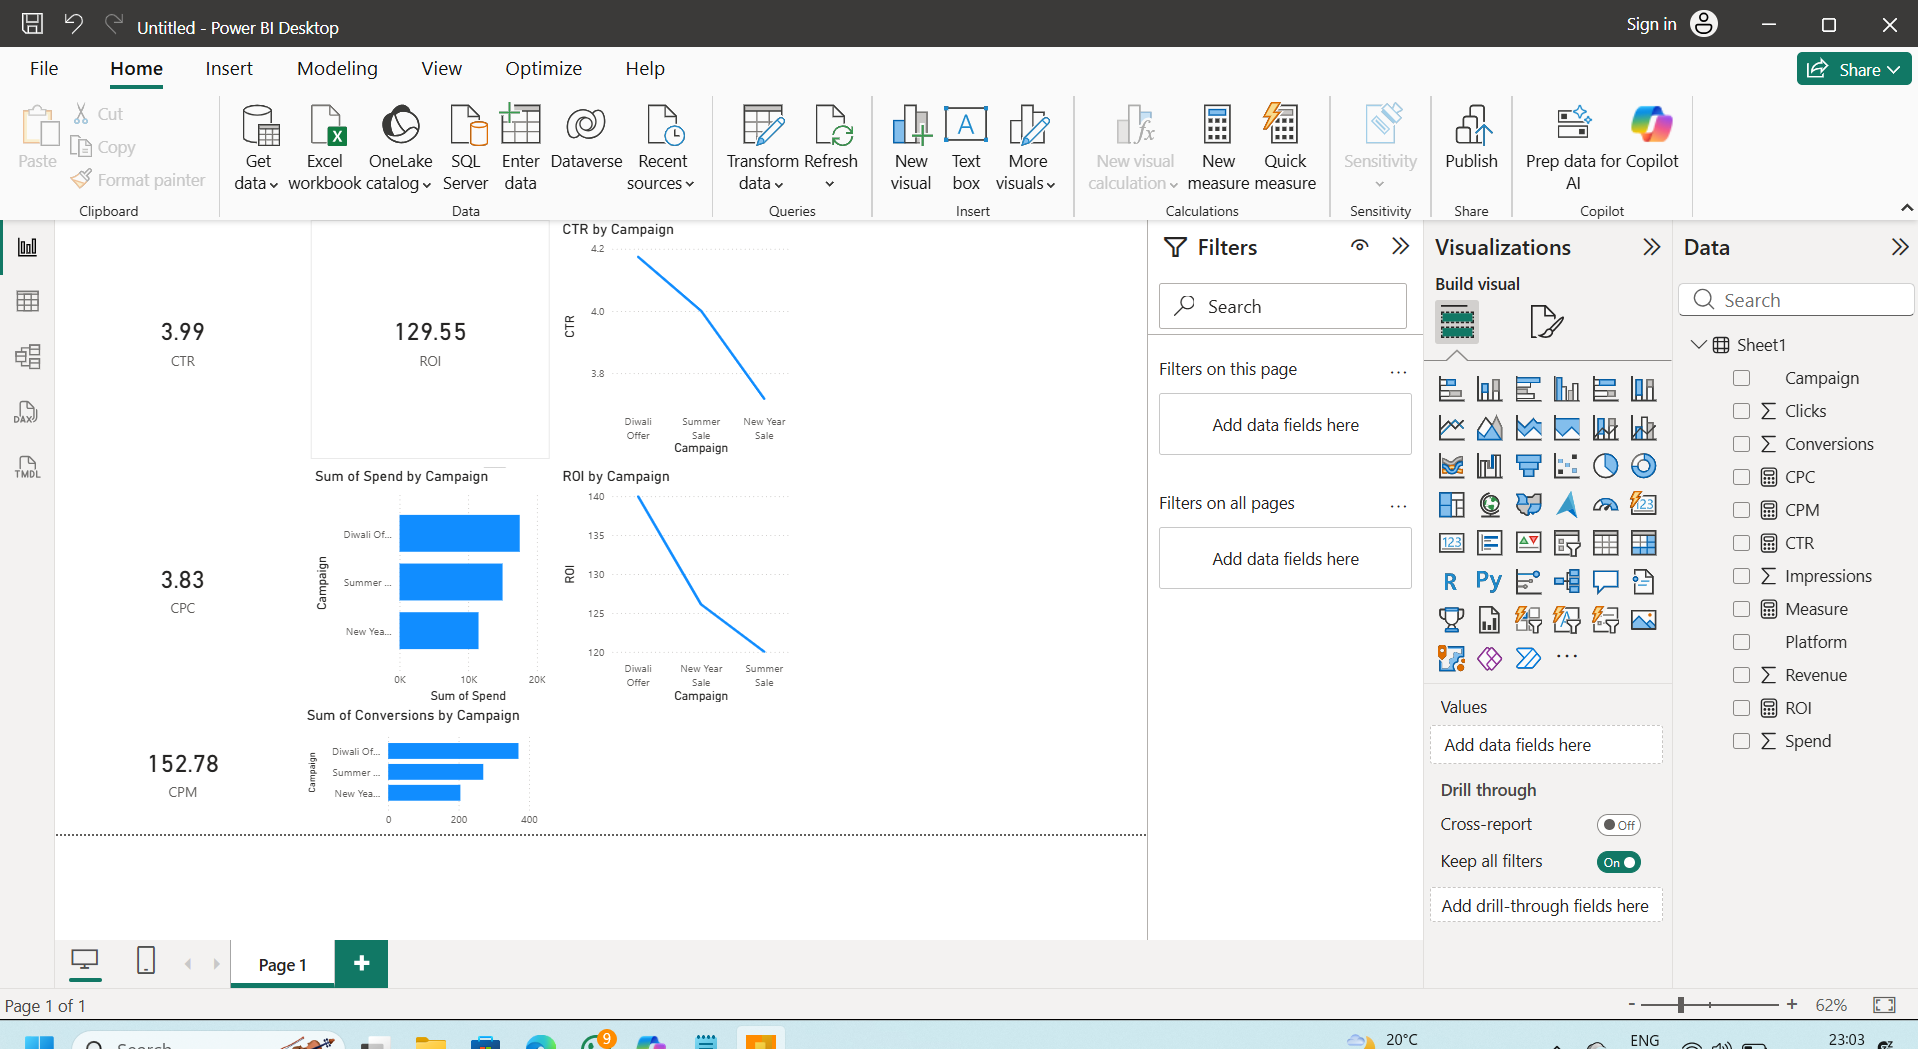

What the dashboard file says about the page in this screenshot:
{"tool":"powerbi","page":{"name":"Page 1","canvas":[1280,720],"ordinal":0},"visuals":[{"type":"card","fields":{"Values":["Sheet1.CTR"]},"box":[10,0,280,280],"z":0},{"type":"card","fields":{"Values":["Sheet1.CPC"]},"box":[10,290,280,280],"z":1},{"type":"card","fields":{"Values":["Sheet1.CPM"]},"box":[10,570,280,150],"z":2},{"type":"card","fields":{"Values":["Sheet1.ROI"]},"box":[300,0,280,280],"z":3},{"type":"barChart","fields":{"Category":["Sheet1.Campaign"],"Y":["Sum(Sheet1.Spend)"]},"box":[300,290,280,280],"z":4},{"type":"barChart","fields":{"Category":["Sheet1.Campaign"],"Y":["Sum(Sheet1.Conversions)"]},"box":[290.1,570.6,280.4,149.9],"z":5},{"type":"lineChart","fields":{"Category":["Sheet1.Campaign"],"Y":["Sheet1.CTR"]},"box":[590,0,280,280],"z":6},{"type":"lineChart","fields":{"Category":["Sheet1.Campaign"],"Y":["Sheet1.ROI"]},"box":[590,290,280,280],"z":7}]}

Visuals, with their boxes on the page's 1280x720 design canvas (x1, y1, x2, y2). These are canvas units, not pixel positions in the 1918x1049 screenshot, which may show the page scaled, cropped or inside an application window:
card - Sheet1.CTR: rect(10, 0, 290, 280)
card - Sheet1.CPC: rect(10, 290, 290, 570)
card - Sheet1.CPM: rect(10, 570, 290, 720)
card - Sheet1.ROI: rect(300, 0, 580, 280)
barChart - Sheet1.Campaign x Sum(Sheet1.Spend): rect(300, 290, 580, 570)
barChart - Sheet1.Campaign x Sum(Sheet1.Conversions): rect(290, 571, 570, 720)
lineChart - Sheet1.Campaign x Sheet1.CTR: rect(590, 0, 870, 280)
lineChart - Sheet1.Campaign x Sheet1.ROI: rect(590, 290, 870, 570)
